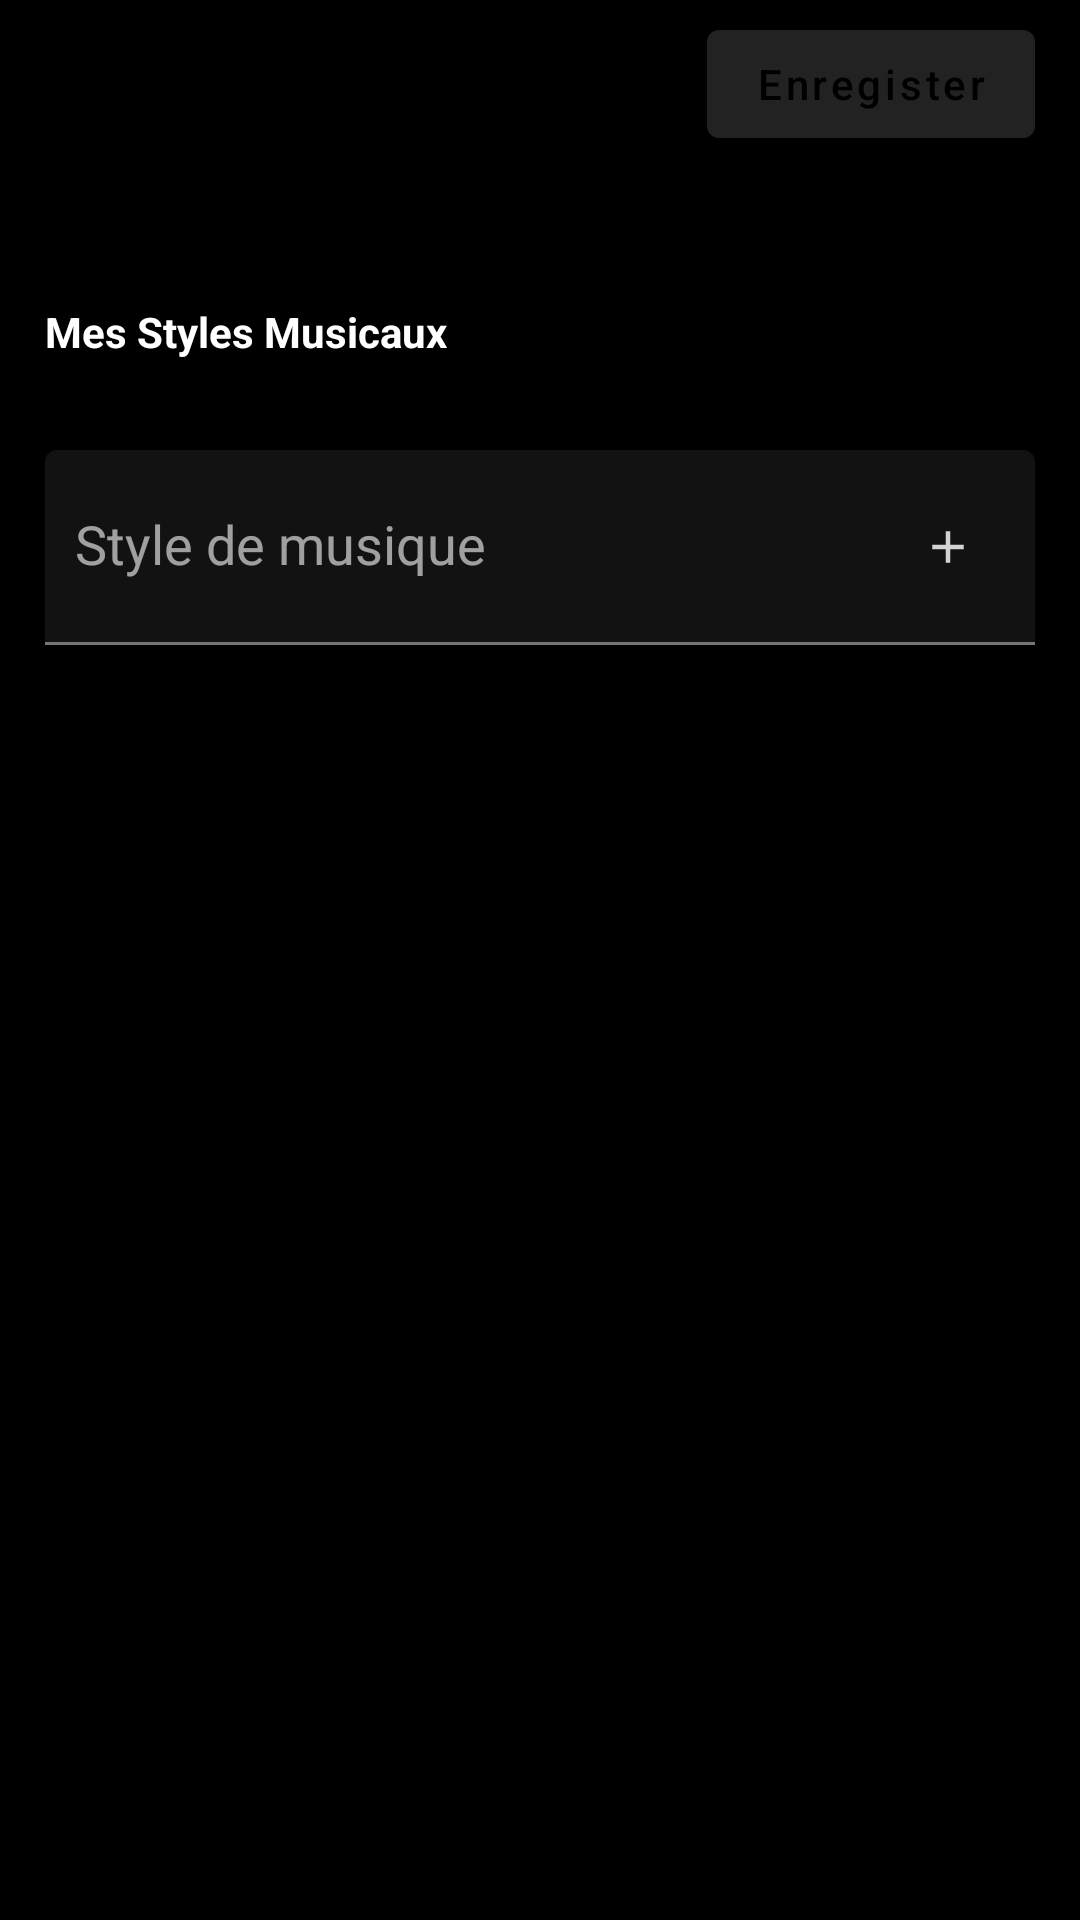

Where to tap for icons on this 1080px x 1920px app screen, as (x,y):
add: (948,547)
